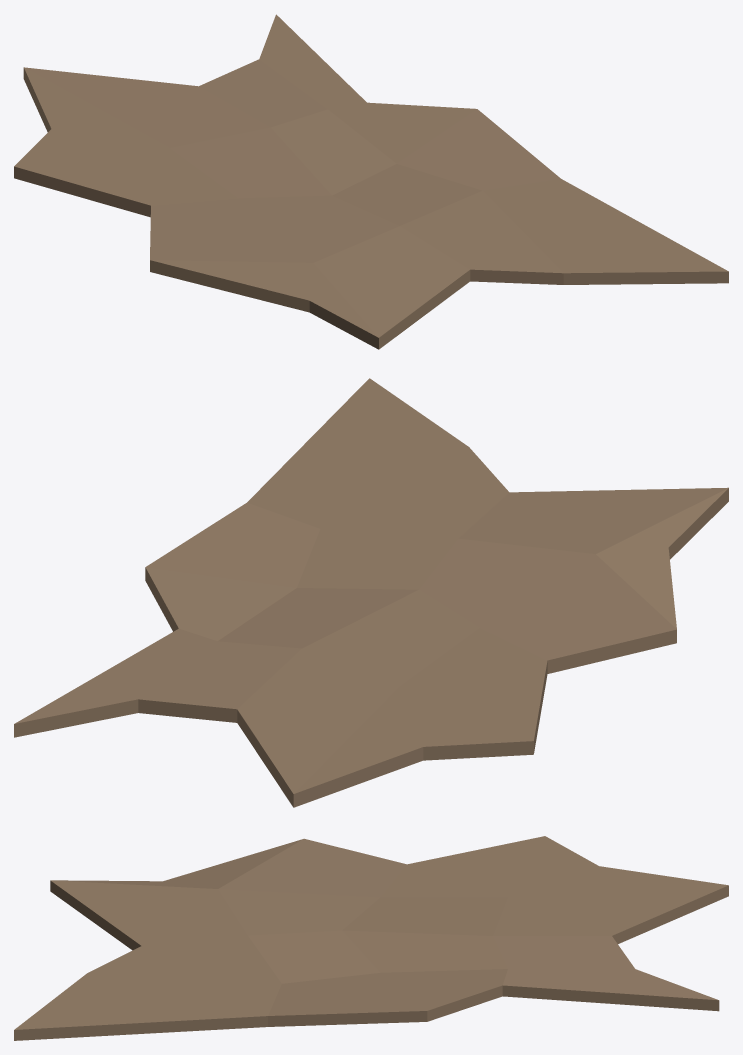
File: hide.glb
3 views of the same model, one above another, from view 1: azimuth 30°, elevation 25°; view 2: azimuth 150°, elevation 25°; view 3: azimuth 270°, elevation 25° (orthographic). The views are drawn at different scales.
Parts seen in each view (by area): view 1: Mesh; view 2: Mesh; view 3: Mesh.
Part boxes in pixels (<box>): Mesh: <box>14,14,728,349</box>; Mesh: <box>14,378,728,807</box>; Mesh: <box>14,836,728,1040</box>.
Bounding box in the file's own units: 1.41 × 0.074 × 2.2.
